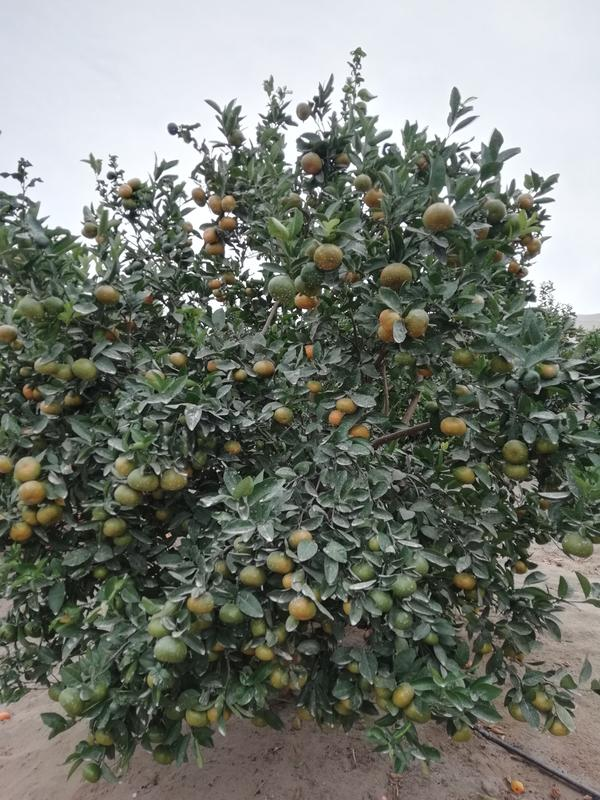mandarina naranja: (16, 481, 47, 506), (14, 457, 42, 480), (266, 550, 293, 573), (299, 151, 324, 174), (92, 284, 120, 303), (8, 522, 33, 543), (379, 307, 399, 332), (252, 359, 275, 376), (453, 572, 474, 589), (202, 225, 222, 242), (350, 423, 370, 439), (294, 295, 317, 308), (190, 188, 206, 206), (518, 192, 534, 210), (206, 194, 221, 213), (202, 243, 226, 254), (221, 195, 236, 212), (329, 409, 343, 426), (1, 455, 14, 473), (119, 183, 133, 198)
mandarina verde: (154, 635, 187, 664), (422, 202, 456, 230), (402, 308, 431, 338), (561, 531, 594, 557), (313, 242, 343, 270), (381, 263, 413, 288), (17, 293, 45, 321), (127, 468, 160, 491), (268, 274, 296, 301), (288, 595, 317, 621), (57, 688, 84, 715), (501, 439, 530, 464), (159, 467, 187, 492), (187, 592, 216, 615), (113, 484, 143, 506), (391, 573, 416, 598), (482, 198, 507, 222), (72, 358, 98, 381), (218, 603, 244, 625), (394, 681, 415, 708), (239, 566, 267, 586), (440, 416, 466, 437), (388, 609, 414, 629), (37, 506, 63, 525), (102, 517, 126, 537), (81, 762, 102, 784), (185, 708, 208, 728), (453, 464, 476, 484), (502, 465, 530, 481), (532, 692, 554, 712), (452, 347, 474, 367), (352, 560, 375, 579), (153, 745, 174, 765), (34, 358, 58, 375), (269, 668, 288, 688), (273, 406, 294, 424), (115, 453, 132, 475), (43, 296, 65, 313), (1, 324, 19, 344), (354, 173, 372, 192), (453, 726, 473, 743), (217, 216, 238, 232), (19, 504, 36, 523), (169, 350, 188, 367), (305, 377, 324, 394), (336, 398, 357, 413), (255, 645, 274, 661), (224, 439, 242, 455), (296, 103, 311, 121), (512, 559, 527, 575), (425, 632, 441, 645), (282, 572, 295, 588), (234, 368, 248, 382)
